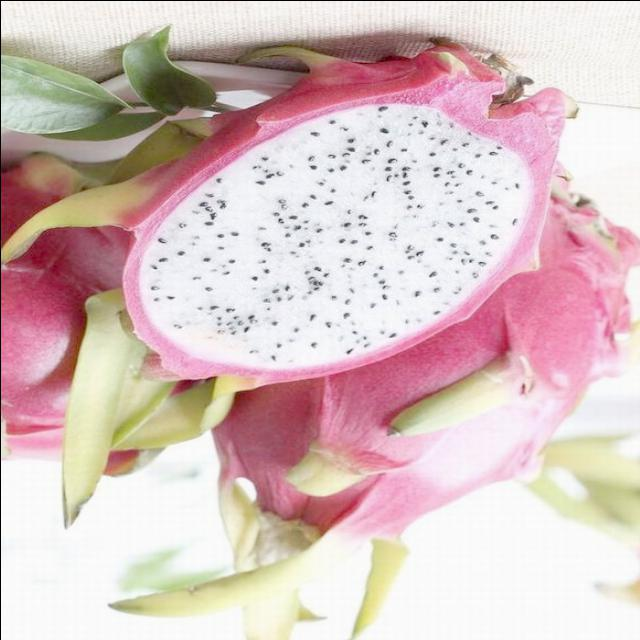trang: (108, 187, 640, 617), (111, 48, 577, 391), (1, 152, 176, 478)
